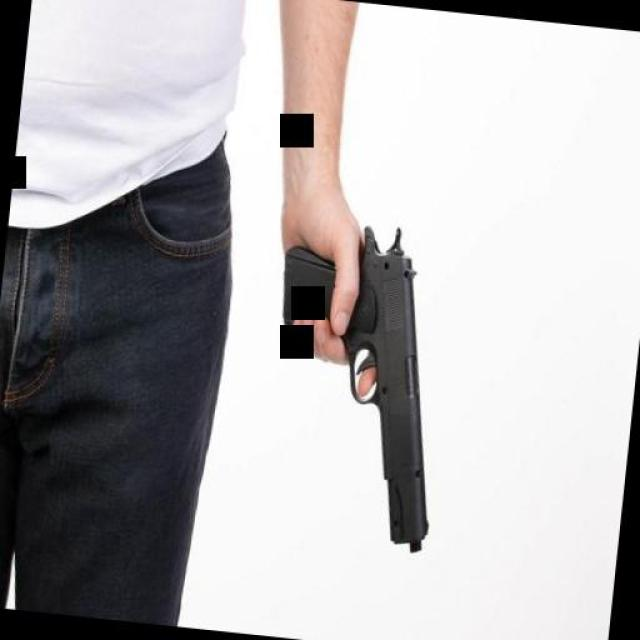gun: (250, 207, 465, 564)
